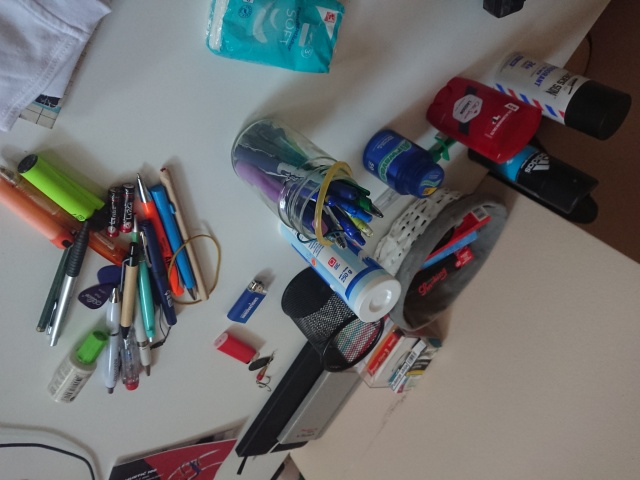Solana Pag Fine Sea Salt 250g: (275, 205, 404, 325)
